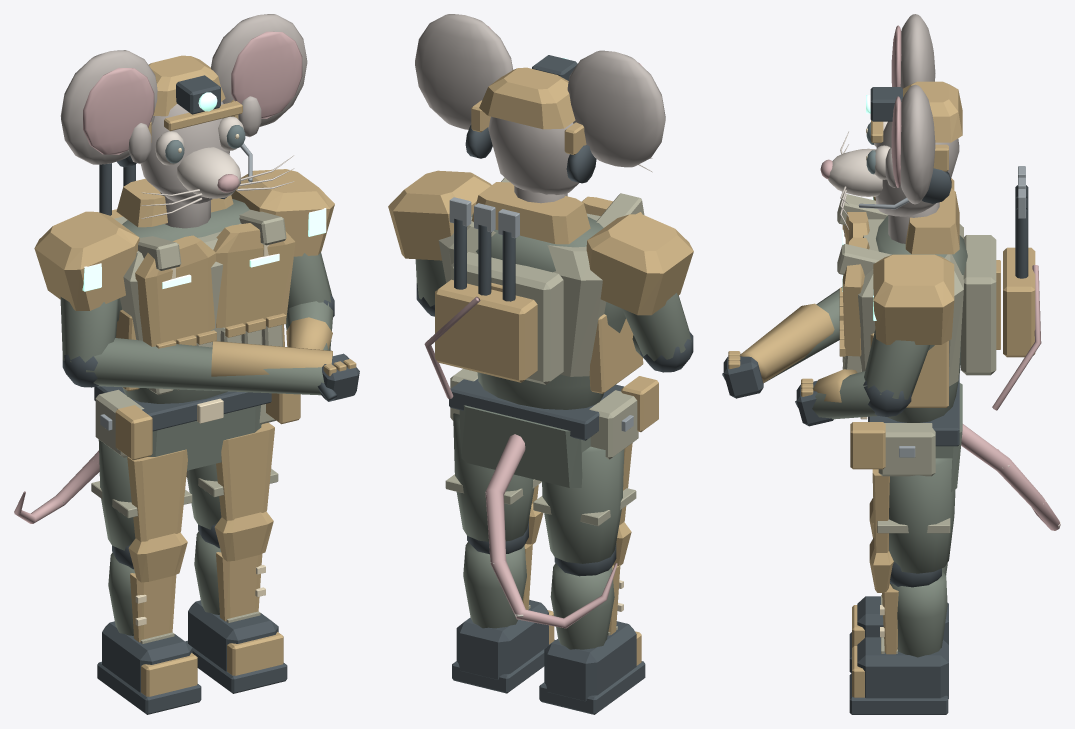
The model's file is mouse_engineer.glb.
3 views of the same model, side by side, from view 1: azimuth 30°, elevation 25°; view 2: azimuth 150°, elevation 25°; view 3: azimuth 270°, elevation 25° (orthographic). The views are drawn at different scales.
Visible parts, largest first — view 1: forearm_L_63, shoulder_L_64, chest_plate_16, chest_plate_3, ear_inner_L_97, ear_inner_R_103, shoulder_R_75, thigh_plate_33, thigh_plate_48, ear_L_96, pelvis_31, forearm_guard_L_67 (+42 smaller); view 2: ear_L_96, toolpack_121, shoulder_L_64, ear_R_102, thigh_32, pelvis_31, carrier_2, torso_1, shoulder_R_75, head_86, boot_39, backpack_119 (+32 smaller); view 3: shoulder_R_75, thigh_47, backpack_119, boot_54, forearm_guard_L_67, ear_R_102, calf_52, toolpack_121, upper_arm_R_73, carrier_2, hip_pouch_27, neck_guard_85 (+34 smaller).
Boxes of the visible parts, x1,y1,x2,y2 form: forearm_L_63: [86, 338, 324, 395]; shoulder_L_64: [34, 211, 139, 310]; chest_plate_16: [213, 223, 295, 327]; chest_plate_3: [135, 235, 215, 346]; ear_inner_L_97: [83, 67, 154, 154]; ear_inner_R_103: [231, 31, 302, 118]; shoulder_R_75: [231, 169, 334, 256]; thigh_plate_33: [127, 449, 187, 541]; thigh_plate_48: [216, 422, 274, 520]; ear_L_96: [60, 50, 157, 164]; pelvis_31: [148, 405, 261, 470]; forearm_guard_L_67: [211, 341, 332, 376]; ear_L_96: [567, 50, 665, 167]; toolpack_121: [435, 279, 537, 382]; shoulder_L_64: [586, 214, 693, 315]; ear_R_102: [415, 14, 512, 129]; thigh_32: [542, 446, 624, 563]; pelvis_31: [459, 405, 590, 487]; carrier_2: [438, 213, 606, 376]; torso_1: [471, 213, 625, 409]; shoulder_R_75: [388, 170, 491, 260]; head_86: [488, 116, 578, 194]; boot_39: [544, 621, 636, 701]; backpack_119: [451, 252, 563, 384]; shoulder_R_75: [873, 254, 954, 344]; thigh_47: [889, 458, 955, 573]; backpack_119: [961, 235, 996, 375]; boot_54: [857, 637, 948, 698]; forearm_guard_L_67: [740, 303, 834, 382]; ear_R_102: [900, 84, 935, 204]; calf_52: [890, 570, 947, 657]; toolpack_121: [1003, 247, 1035, 357]; upper_arm_R_73: [864, 330, 929, 399]; carrier_2: [858, 219, 963, 386]; hip_pouch_27: [878, 423, 935, 476]; neck_guard_85: [905, 188, 959, 254].
Size of the model in its own units: 1.13 by 2.56 by 1.25.
